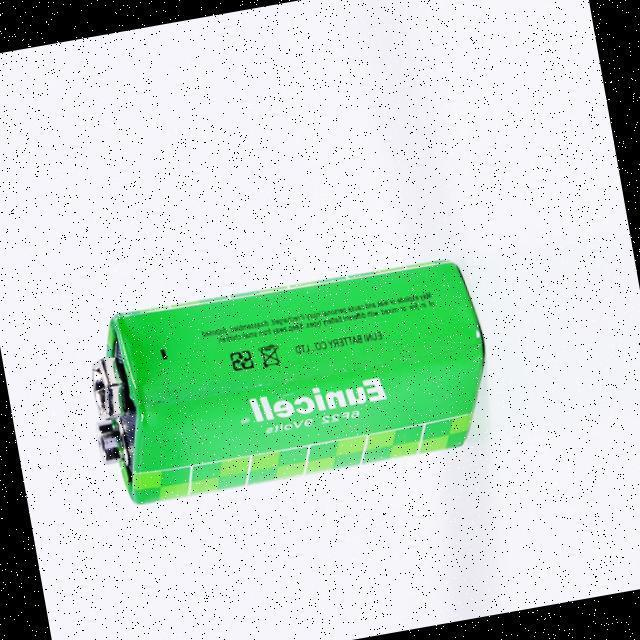9V: (92, 258, 485, 505)
